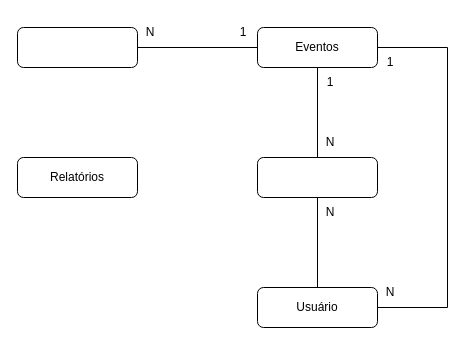
This 466x345 diagram has some shape labels left out. Each missing label, with the box of its shape:
Categorias: (16, 26, 138, 68)
Eventos Pessoas: (256, 156, 378, 198)
